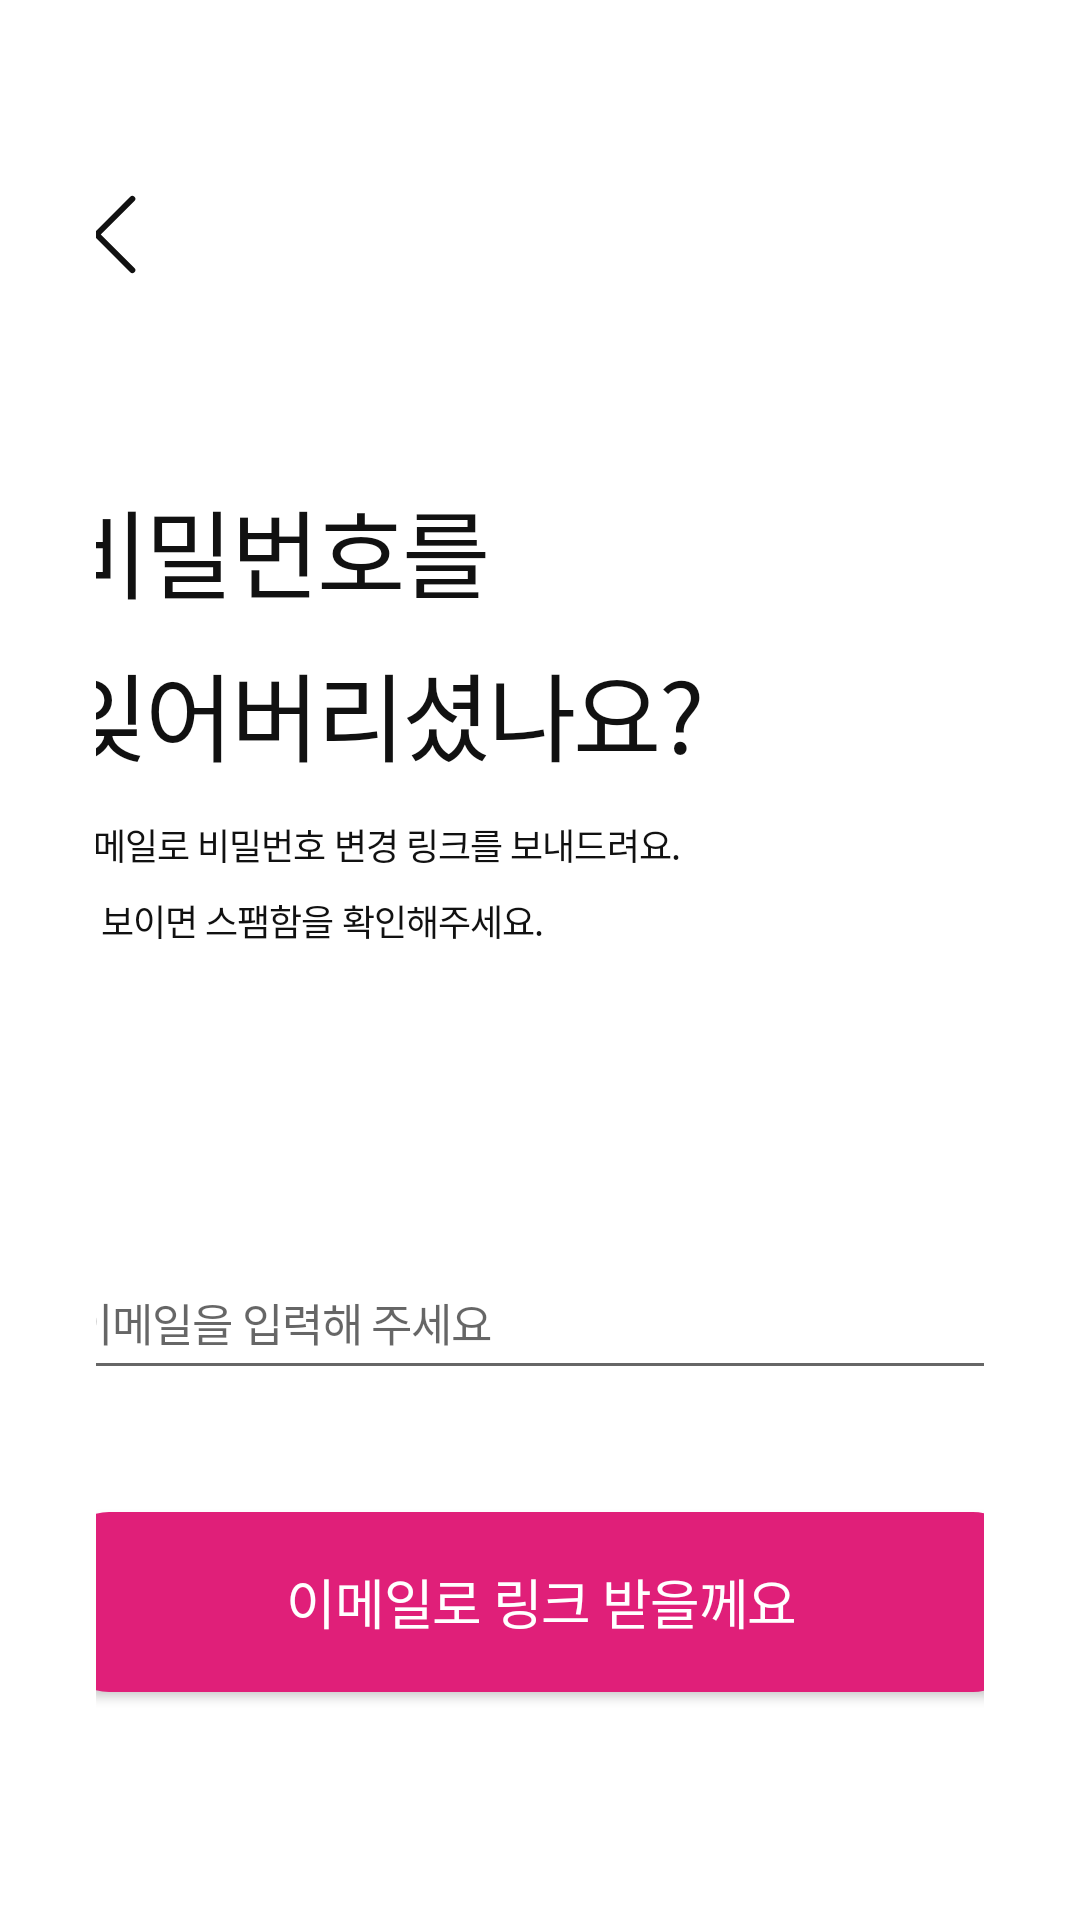

Named icons in this screenshot (1080px x 1920px) and their bounding boxes, (x1, y1, x2, y2):
로그인 화면으로 돌아가기: (96, 195, 136, 274)
